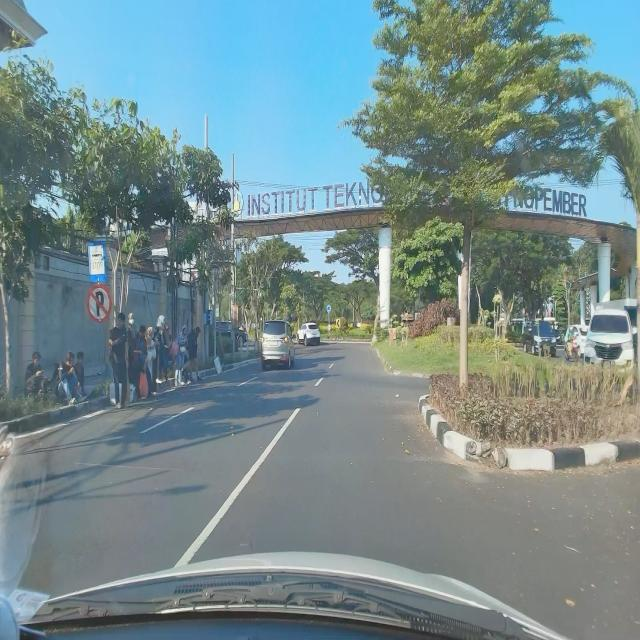car: (260, 318, 296, 372)
